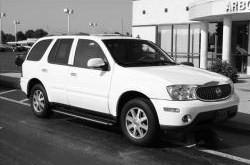car: (19, 33, 243, 148)
